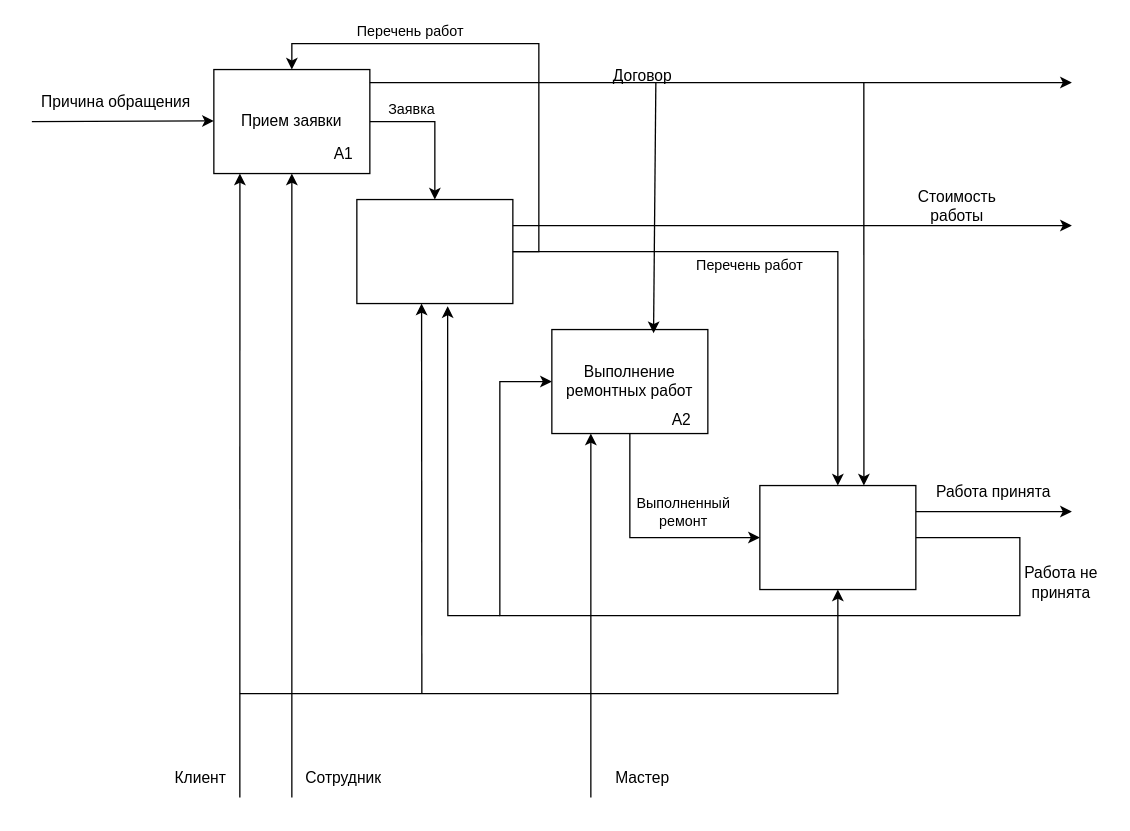
Image size: 1130x831. Some labels were removed from this diagram. The shapes that lost their labels are listed below. From the top down, each one's box as (x1, y1, x2, y2) in pixels, then its label:
(356, 198, 513, 304): Диагностика
(759, 484, 916, 590): Приемка работы
